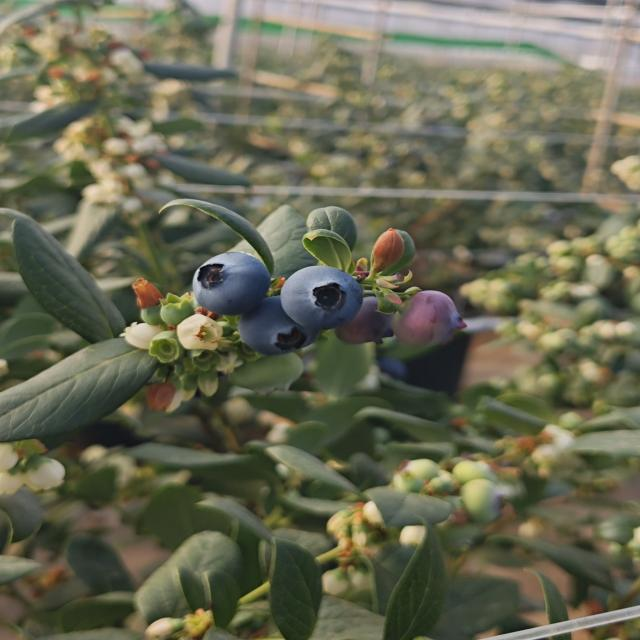ripe: (278, 264, 365, 334), (189, 250, 273, 317), (251, 306, 311, 354)
